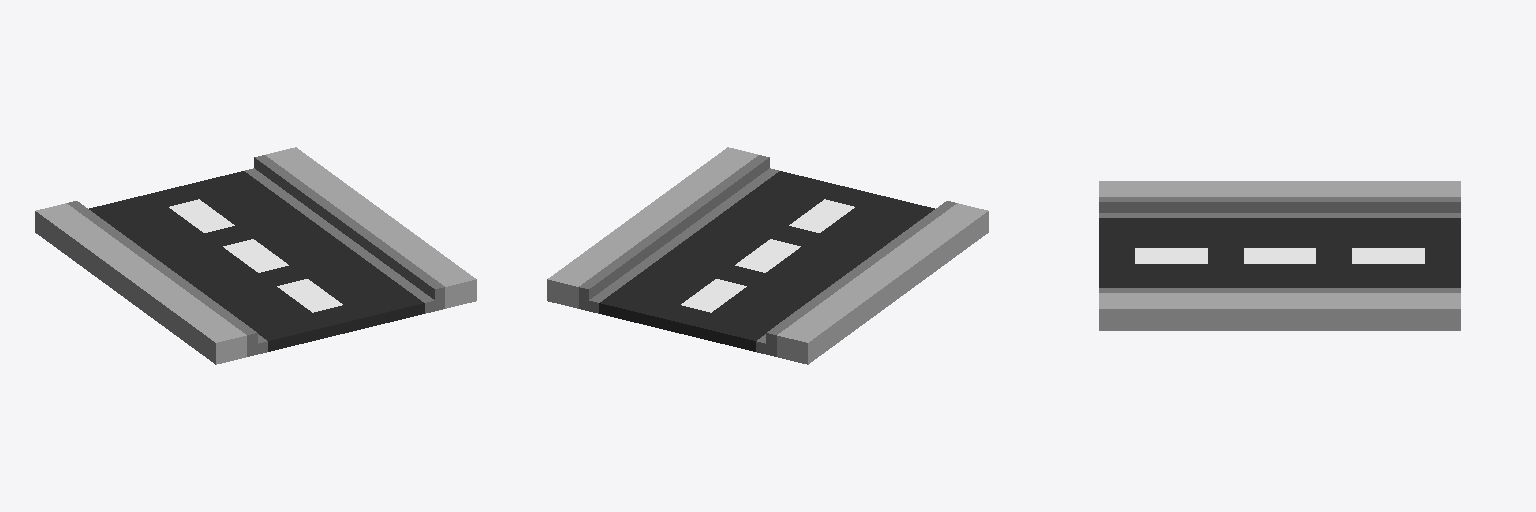
3 renders of one model, left to right at view 1: azimuth 30°, elevation 25°; view 2: azimuth 150°, elevation 25°; view 3: azimuth 270°, elevation 25°, orthographic.
Size of the model in its own units: 25 by 2 by 30.
1 materials, 1 textured.